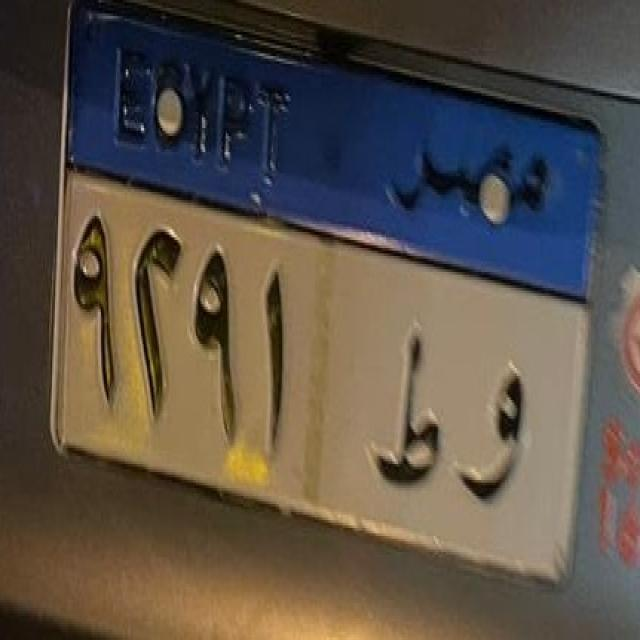1: (248, 248, 310, 476)
2: (120, 214, 190, 456)
9: (64, 204, 136, 438), (182, 237, 254, 466)
Taa: (358, 313, 459, 508)
Wow: (451, 340, 544, 528)
